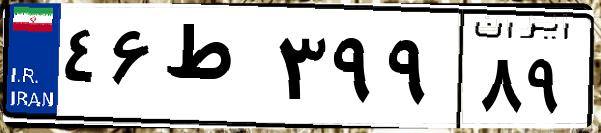3: (270, 28, 330, 110)
4: (57, 26, 110, 100)
6: (110, 28, 158, 98)
8: (475, 38, 525, 113)
9: (385, 28, 445, 110), (330, 28, 385, 110), (525, 38, 570, 115)
ط: (158, 20, 270, 120)
